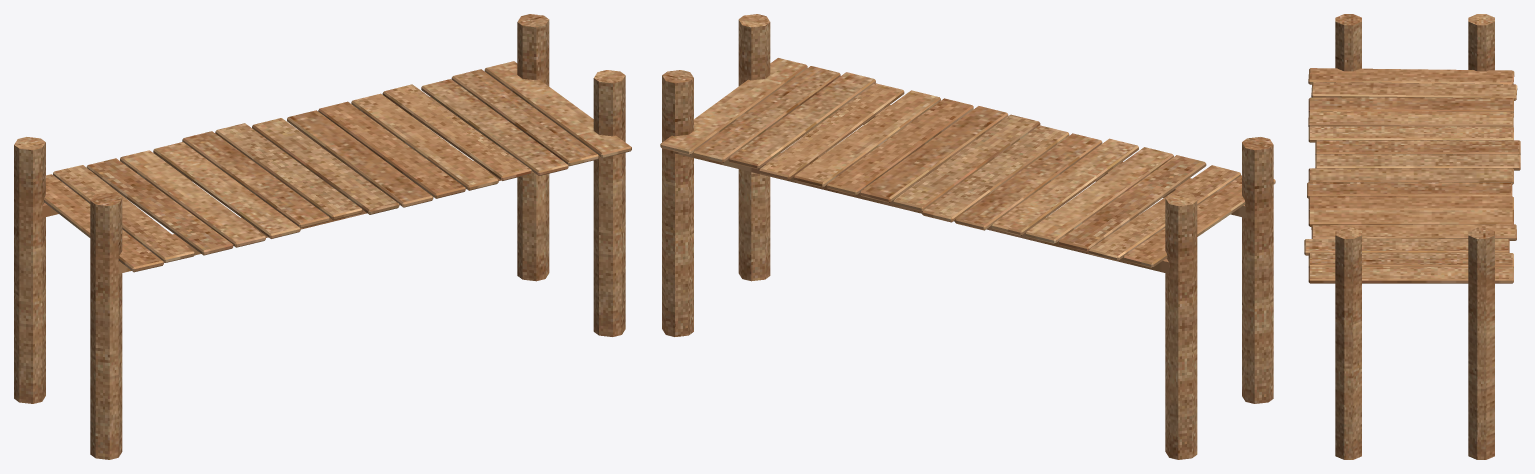
File: dock.fbx
3 views of the same model, side by side, from view 1: azimuth 30°, elevation 25°; view 2: azimuth 150°, elevation 25°; view 3: azimuth 270°, elevation 25° (orthographic). The views are drawn at different scales.
Parts seen in each view (by area): view 1: dock; view 2: dock; view 3: dock.
Boxes of the visible parts, x1,y1,x2,y2 form: dock: (14,14,631,459); dock: (660,14,1275,459); dock: (1304,14,1520,459).
Bounding box in the file's own units: 3430 × 1570 × 1391.
